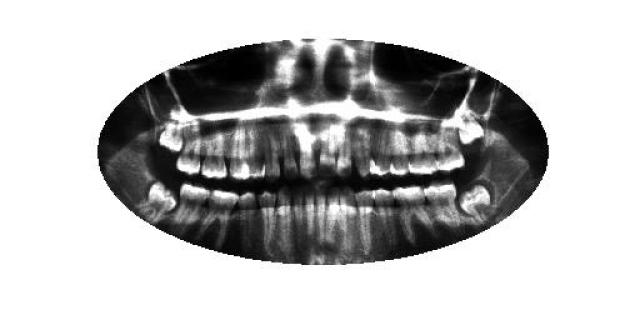Restorations: (135, 181, 180, 225), (455, 180, 496, 226)
